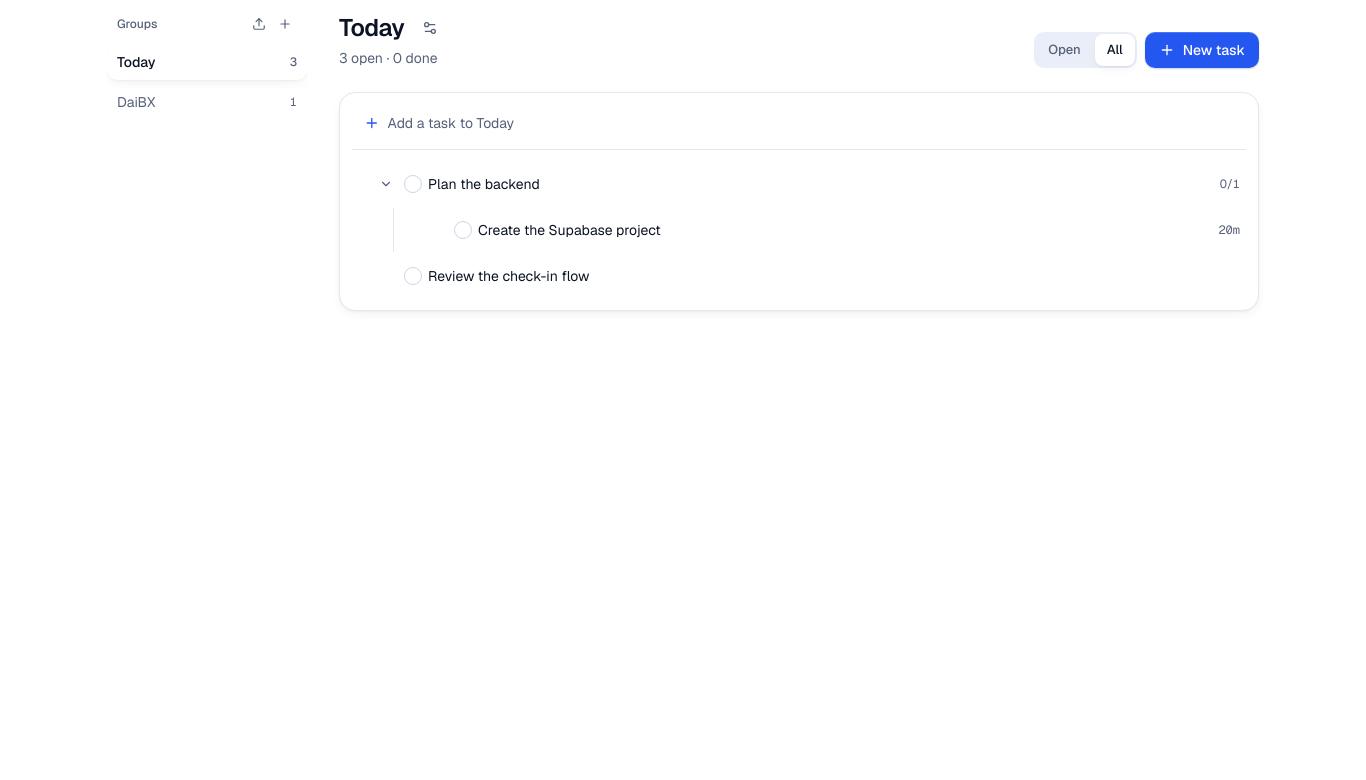
Test: a failed write rolls back and says why
Check: the text "Plan the backend" is shown, box [428,175,540,193]
What coordinates should you click on to do the following:
click the checkbox named "Mark Review the check-in flow as done"
I would click on:
 (413, 276)
Its box is [404,267,422,285].
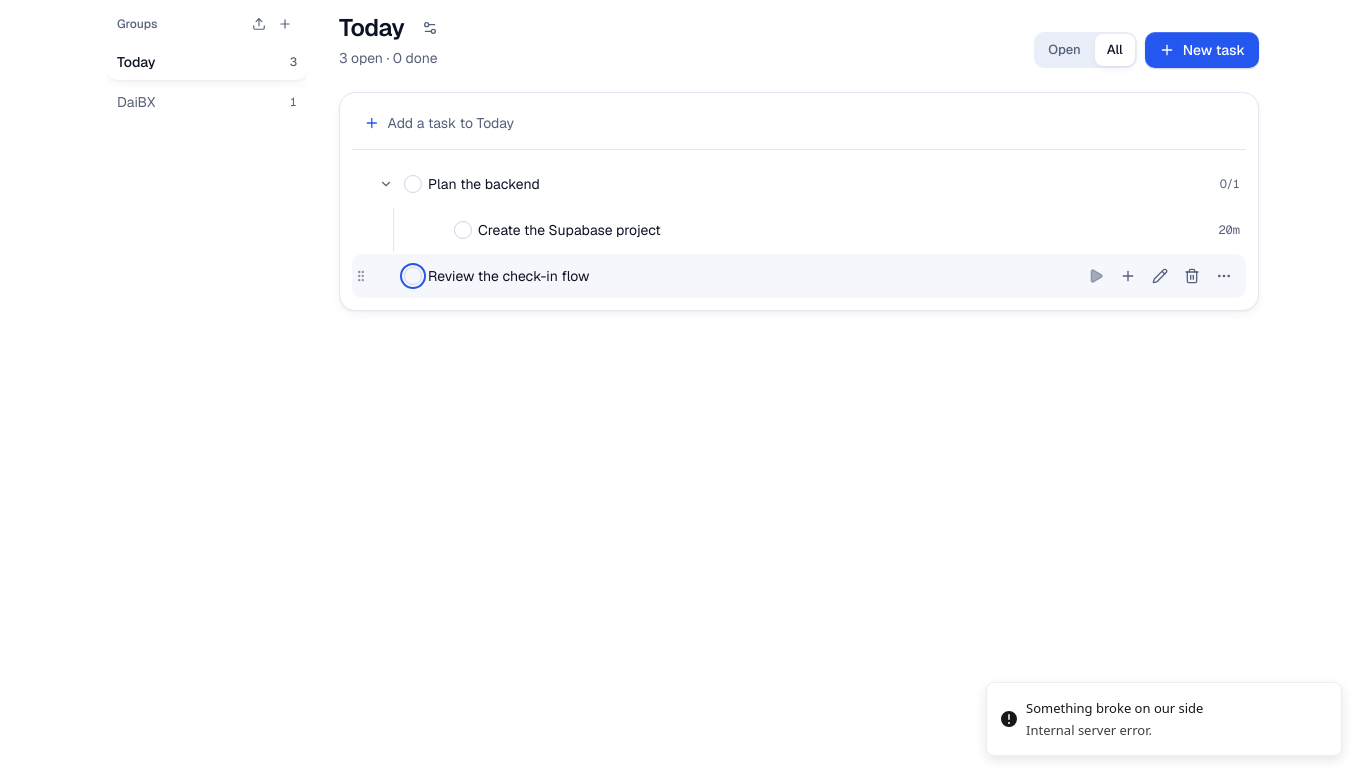
Check: the text "Something broke on our side" is shown, box [1026,699,1203,719]
